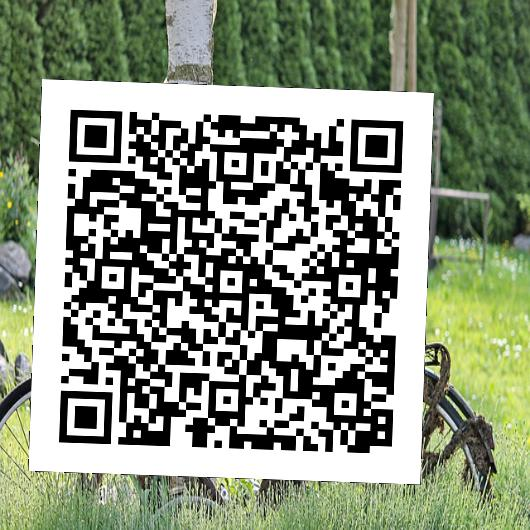qr_code: (28, 79, 433, 484)
